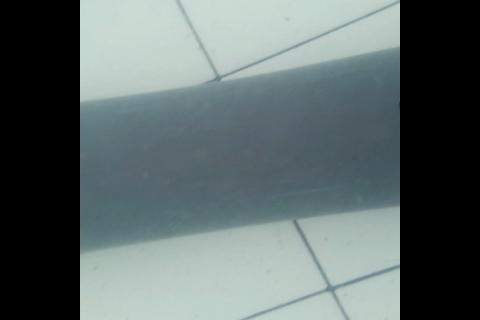kebocoran: (395, 93, 400, 129)
